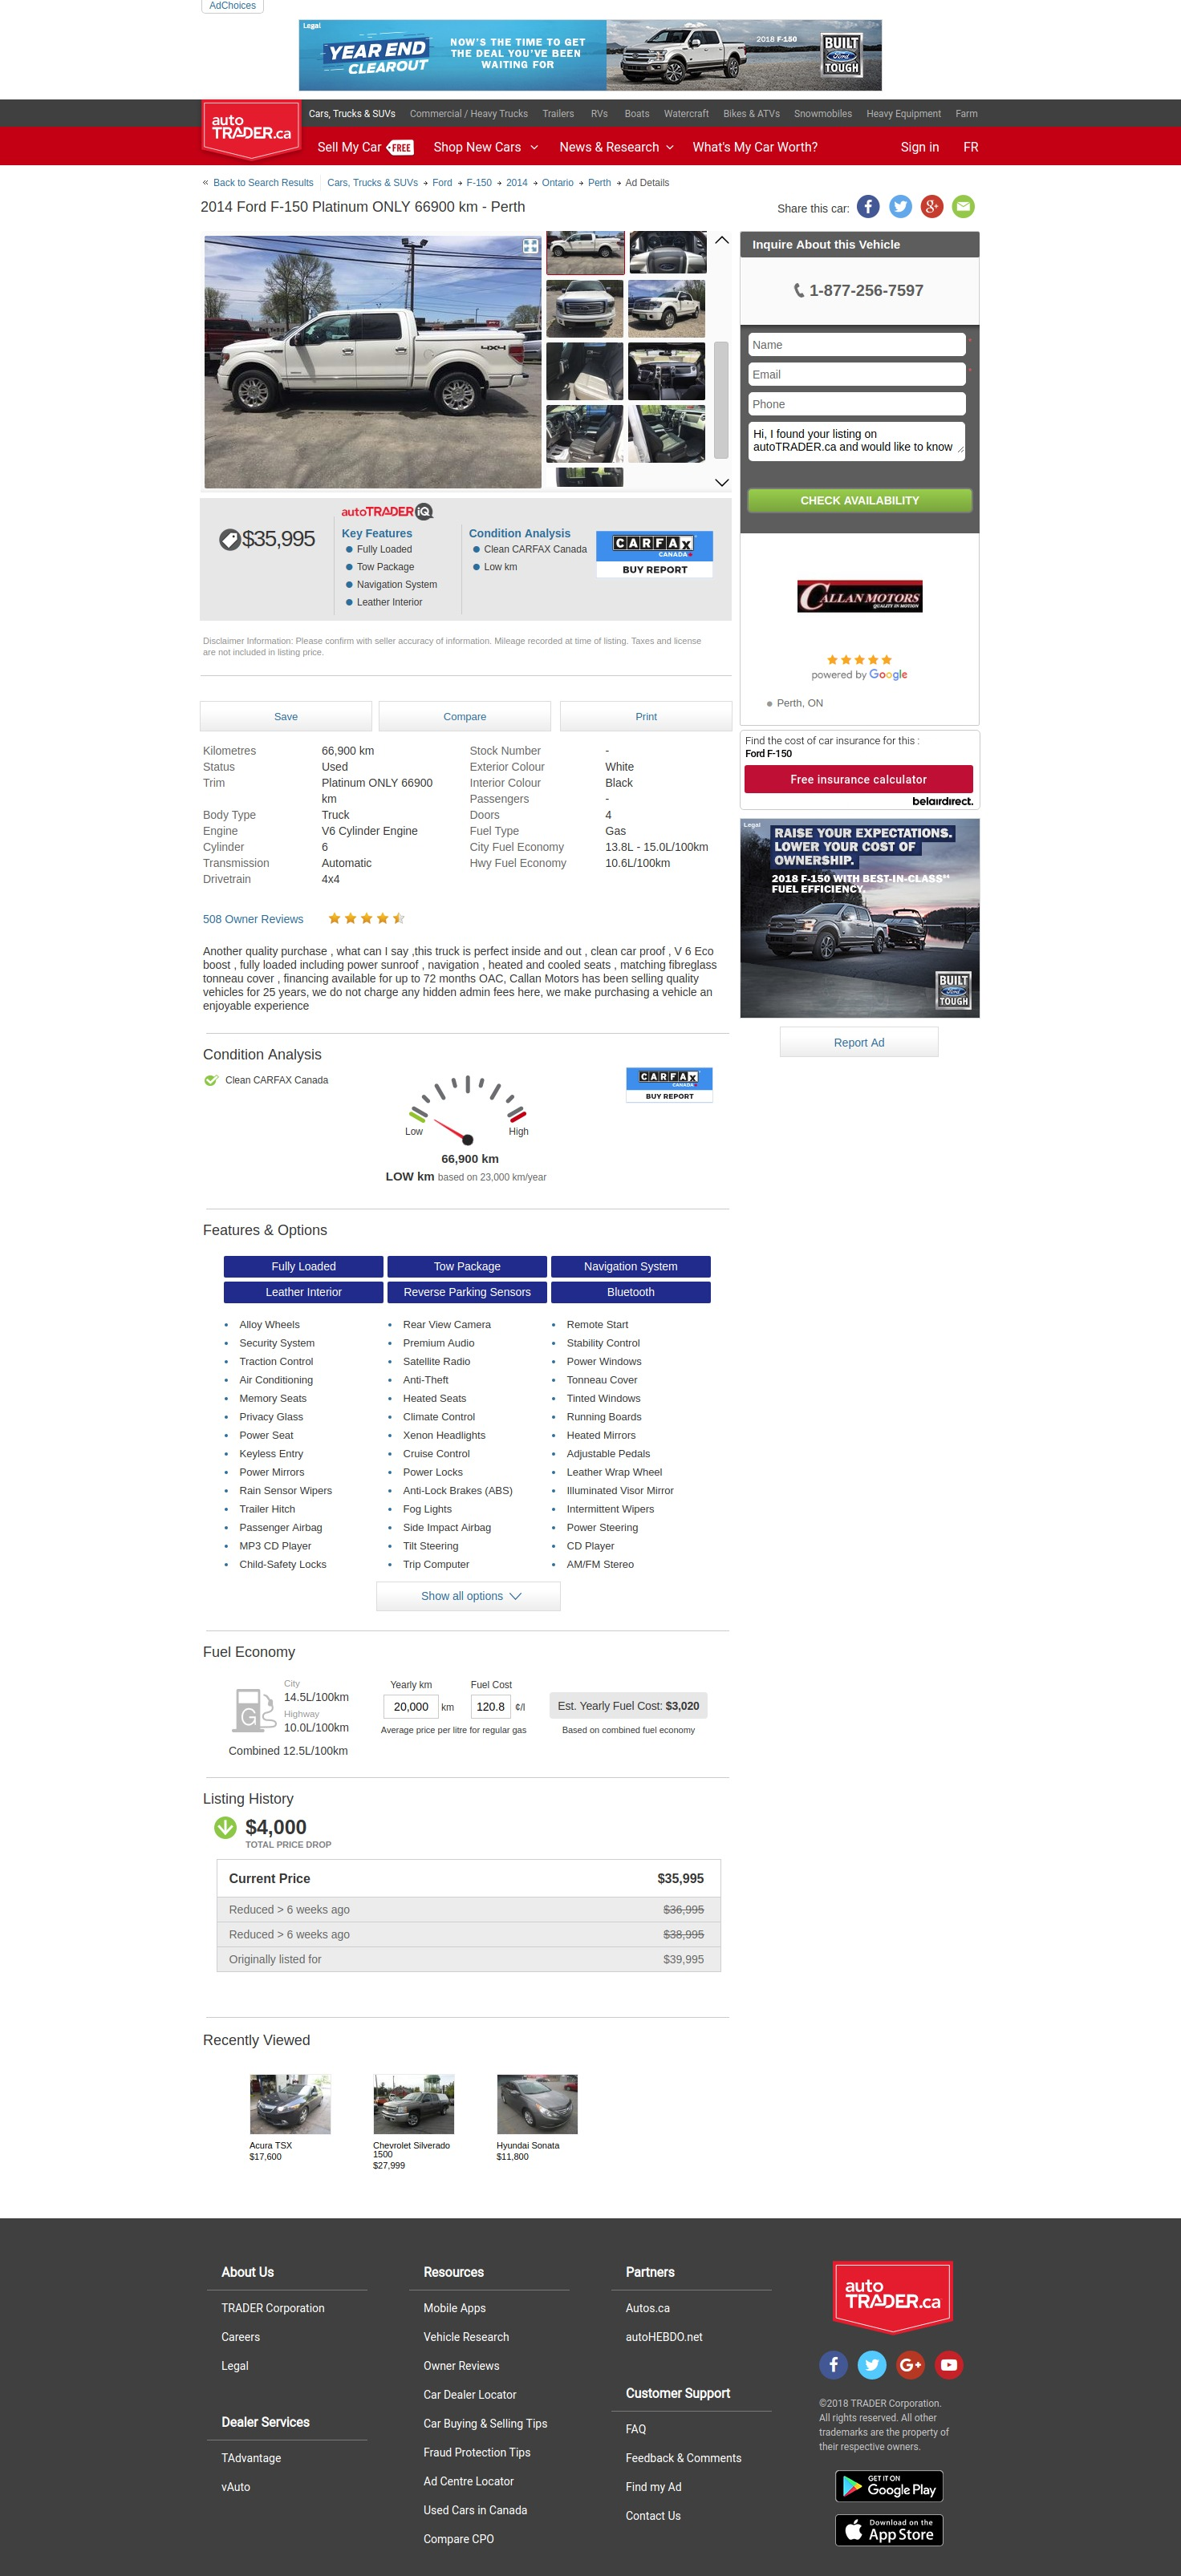car: (715, 478, 729, 488)
